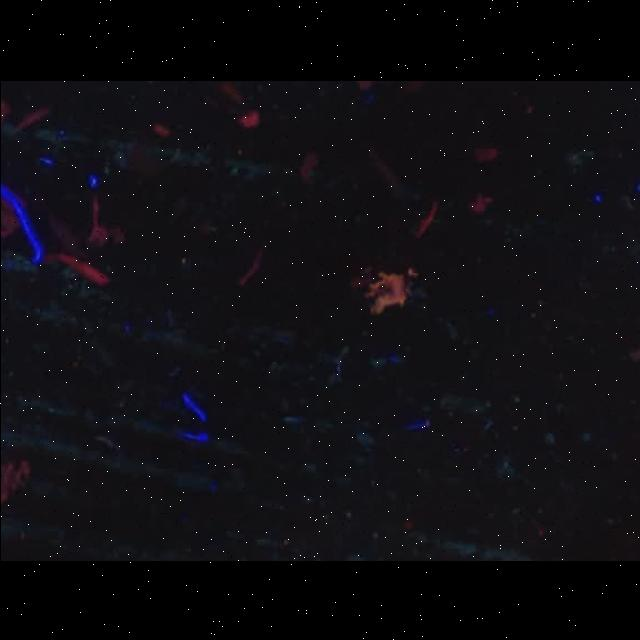Fragment: (364, 268, 416, 313), (468, 193, 490, 212)
